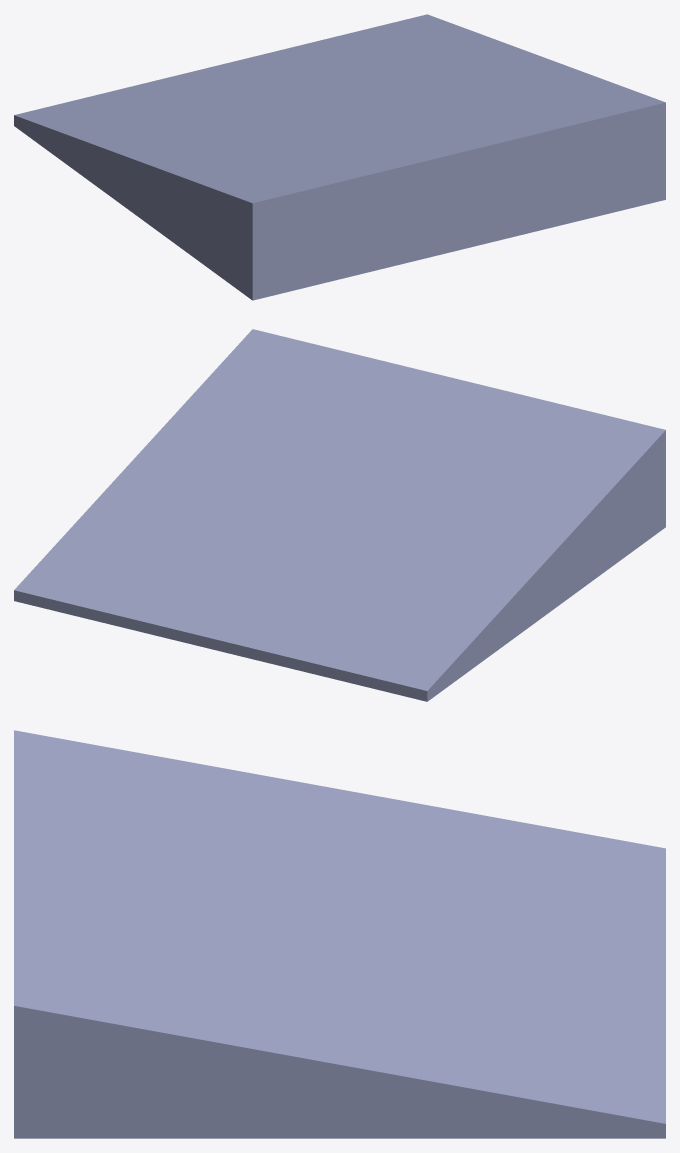
Rendered from road-slope.glb.
3 views of the same model, one above another, from view 1: azimuth 30°, elevation 25°; view 2: azimuth 150°, elevation 25°; view 3: azimuth 270°, elevation 25° (orthographic). The views are drawn at different scales.
Parts seen in each view (by area): view 1: road-slope; view 2: road-slope; view 3: road-slope.
Boxes of the visible parts, bbox=[...] form: road-slope: bbox=[14, 14, 665, 300]; road-slope: bbox=[14, 329, 665, 701]; road-slope: bbox=[14, 730, 665, 1138].
Size of the model in its own units: 1 by 0.225 by 1.
1 material, 1 textured.
